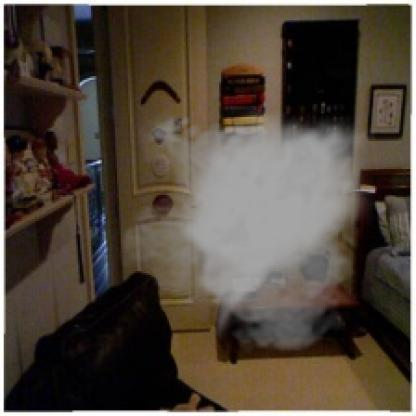smoke: (173, 118, 370, 348)
